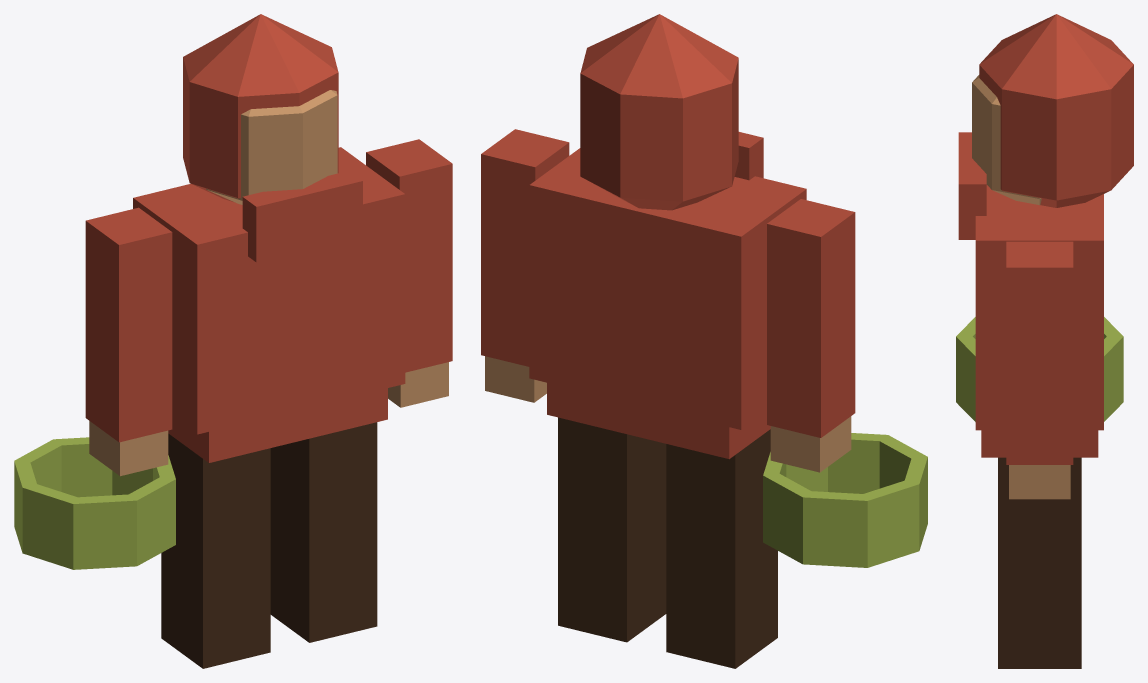
The model's file is npc_petani_wanita.obj.
3 views of the same model, side by side, from view 1: azimuth 30°, elevation 25°; view 2: azimuth 150°, elevation 25°; view 3: azimuth 270°, elevation 25° (orthographic).
Visible parts, largest first — view 1: torso, leg_r, leg_l, arm_l, basket, kerudung, arm_r, head, scarf, waist, hand_l, hand_r; view 2: torso, kerudung, leg_l, leg_r, arm_l, basket, arm_r, waist, hand_l, hand_r, scarf; view 3: kerudung, torso, arm_r, leg_r, basket, head, scarf, hand_r, waist.
Part boxes in pixels (box(x1,y1,x2,y2)): torso: box(133, 147, 405, 434); leg_r: box(270, 422, 377, 642); leg_l: box(161, 433, 270, 668); arm_l: box(85, 207, 172, 442); basket: box(14, 437, 175, 569); kerudung: box(183, 14, 338, 201); arm_r: box(366, 139, 452, 372); head: box(206, 90, 337, 204); scarf: box(242, 171, 362, 262); waist: box(168, 388, 387, 462); hand_l: box(89, 421, 168, 476); hand_r: box(388, 362, 448, 407); torso: box(529, 148, 806, 429); kerudung: box(580, 14, 738, 210); leg_l: box(666, 429, 777, 668); leg_r: box(558, 417, 666, 642); arm_l: box(767, 199, 855, 437); basket: box(763, 433, 927, 567); arm_r: box(481, 129, 569, 366); waist: box(547, 383, 770, 459); hand_l: box(770, 416, 851, 472); hand_r: box(485, 356, 546, 402); scarf: box(734, 132, 763, 180); kerudung: box(979, 14, 1133, 207); torso: box(975, 185, 1103, 430); arm_r: box(1006, 241, 1073, 464); leg_r: box(998, 457, 1081, 668); basket: box(956, 317, 1123, 421); head: box(972, 75, 1041, 205); scarf: box(958, 132, 986, 239); hand_r: box(1009, 465, 1070, 499); waist: box(981, 430, 1098, 457).
Bounding box in the file's own units: 1.71 × 2.42 × 0.6371.
